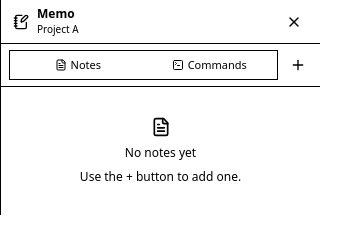
it: ProjectMemoPanel › switches between Notes and Commands tabs
expect the text "No notes yet" is shown: met, box [125,145,196,161]
Click the tab "Commands".
click(209, 65)  # box [144,53,275,77]
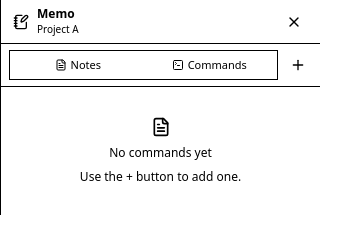
expect the text "No commands yet" is shown: met, box [109,145,212,161]
Click the tab "Notes".
click(78, 65)  # box [12,53,144,77]
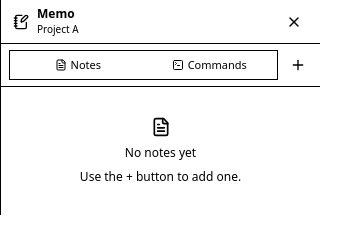
expect the text "No notes yet" is shown: met, box [125,145,196,161]
